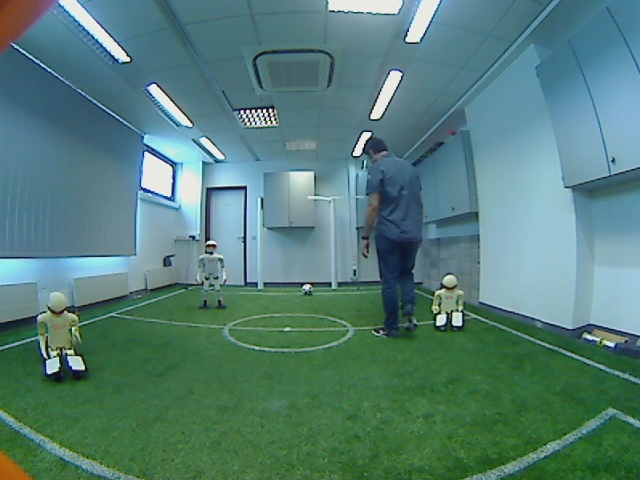ball: (296, 279, 318, 299)
robot: (32, 291, 88, 384), (196, 240, 230, 314), (430, 274, 467, 334)
